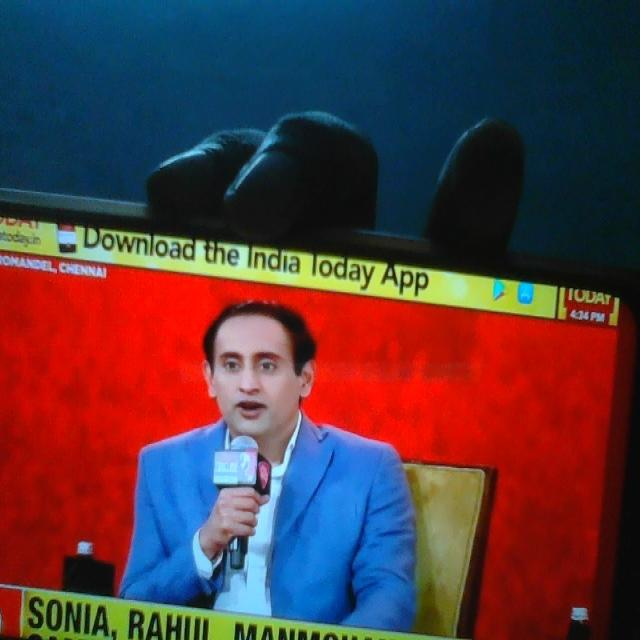fake: (209, 268, 309, 457)
